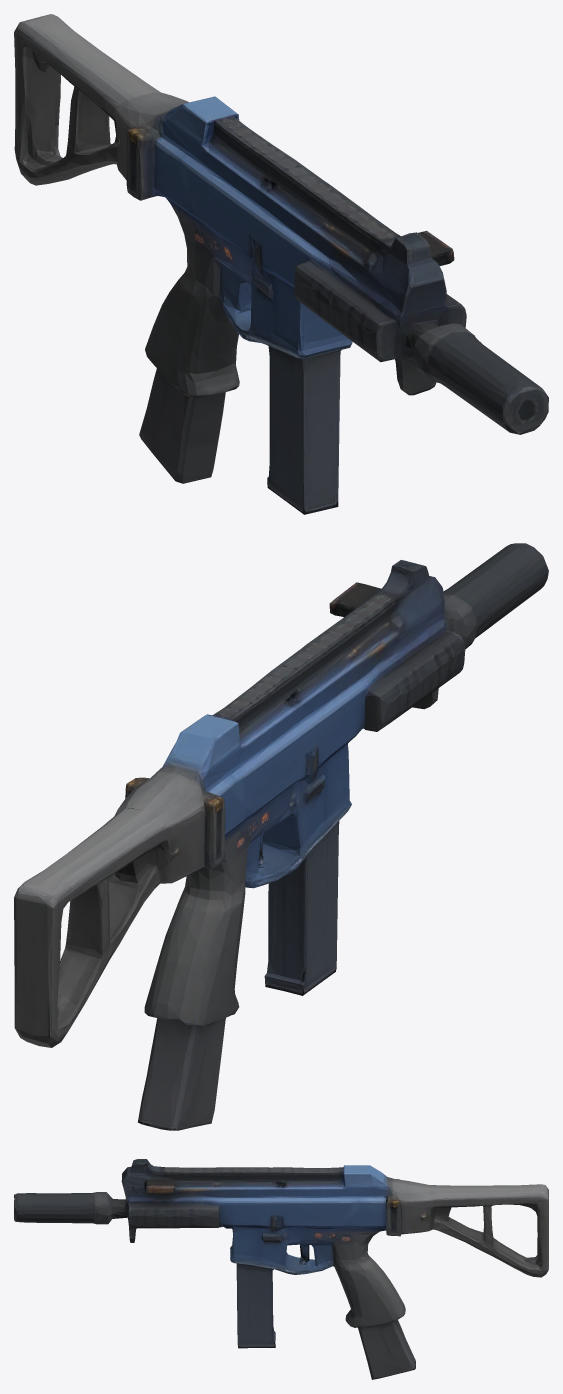
The model's file is smg.glb.
3 renders of one model, top to bottom at view 1: azimuth 30°, elevation 25°; view 2: azimuth 150°, elevation 25°; view 3: azimuth 270°, elevation 25°, orthographic. The views are drawn at different scales.
Visible parts, largest first — view 1: world; view 2: world; view 3: world.
Boxes of the visible parts, x1,y1,x2,y2 form: world: [14, 14, 548, 514]; world: [14, 543, 548, 1130]; world: [14, 1159, 548, 1379].
Bounding box in the file's own units: 0.1109 × 0.4451 × 1.
1 material, 1 textured.
